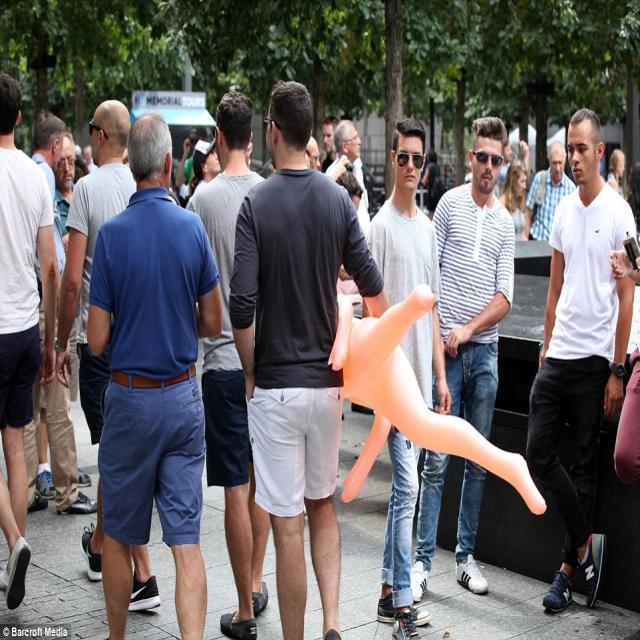body: (221, 70, 408, 639), (80, 102, 228, 639), (401, 104, 518, 607), (524, 106, 638, 614), (354, 114, 454, 639), (183, 89, 273, 638), (0, 59, 64, 610), (20, 111, 100, 518), (32, 129, 92, 501), (458, 134, 628, 213), (421, 573, 548, 632), (610, 335, 639, 548), (520, 138, 578, 244), (303, 114, 367, 210), (323, 116, 370, 242), (165, 123, 208, 204), (497, 156, 530, 242), (189, 136, 222, 198), (421, 148, 443, 222), (68, 137, 95, 173), (241, 141, 254, 169)
